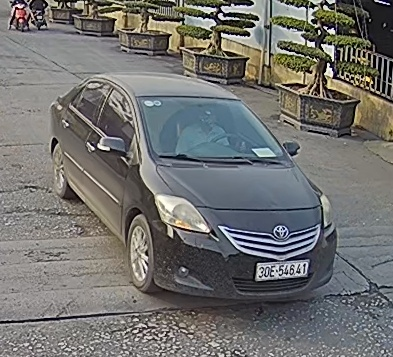vehicle plate: (251, 258, 311, 282)
